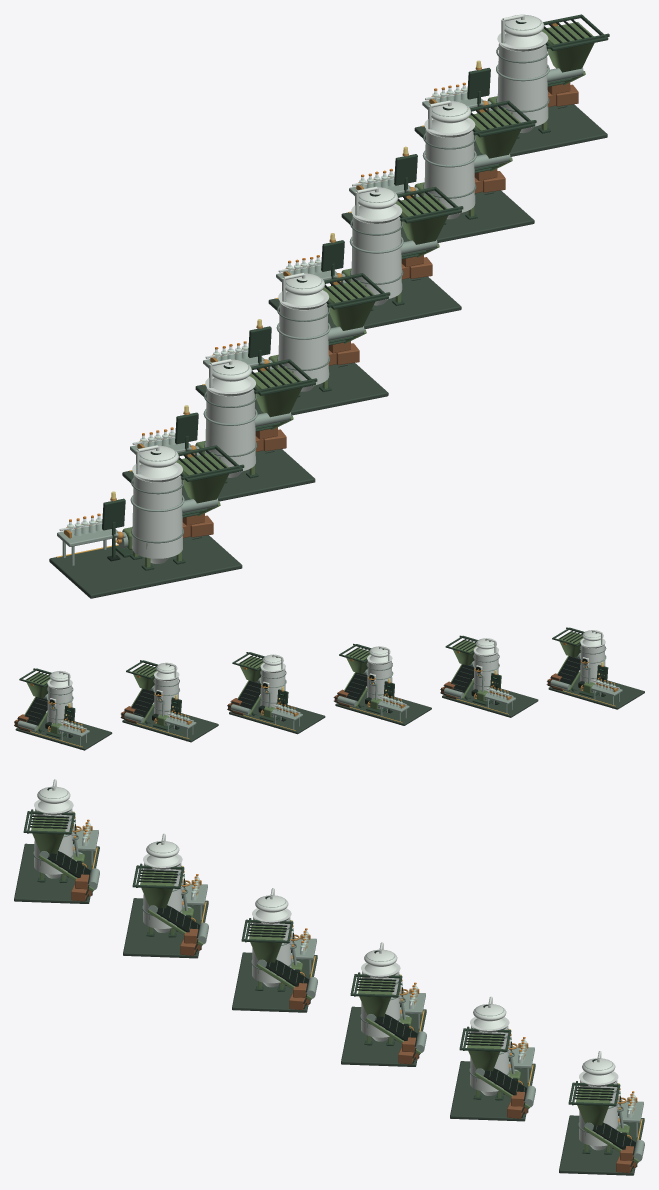
Rendered from audit-hf-processing-line-run-tq.glb.
The picture shows the model from 3 angles, top to bottom: view 1: azimuth 30°, elevation 25°; view 2: azimuth 150°, elevation 25°; view 3: azimuth 270°, elevation 25°; orthographic projection. The views are drawn at different scales.
Parts seen in each view (by area): view 1: processingFoundation (×6), tankBody (×6), hopperBody (×6); view 2: processingFoundation (×6), tankBody (×6), conveyorBelt (×6), hopperBody (×6), bottlingTable (×6); view 3: processingFoundation (×6), hopperBody (×6), tankBody (×6).
Boxes of the visible parts, <box> form: processingFoundation (×6): <box>49,104,607,598</box>; tankBody (×6): <box>132,43,548,558</box>; hopperBody (×6): <box>176,22,594,503</box>; processingFoundation (×6): <box>15,672,644,750</box>; tankBody (×6): <box>47,644,605,725</box>; conveyorBelt (×6): <box>25,656,580,725</box>; hopperBody (×6): <box>25,631,583,698</box>; bottlingTable (×6): <box>58,684,622,737</box>; processingFoundation (×6): <box>14,843,644,1175</box>; hopperBody (×6): <box>31,817,612,1125</box>; tankBody (×6): <box>34,808,618,1146</box>.
Size of the model in its own units: 39.46 by 5.27 by 31.76.
